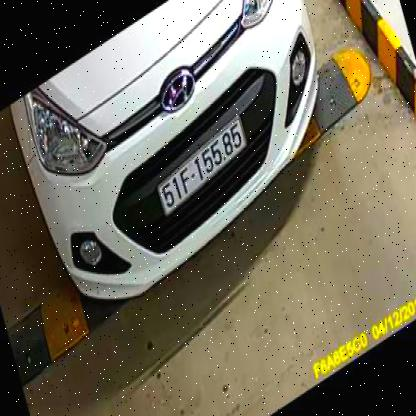license plate: (150, 194, 263, 221)
